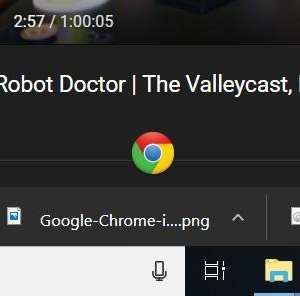chrome: (131, 130, 174, 175)
